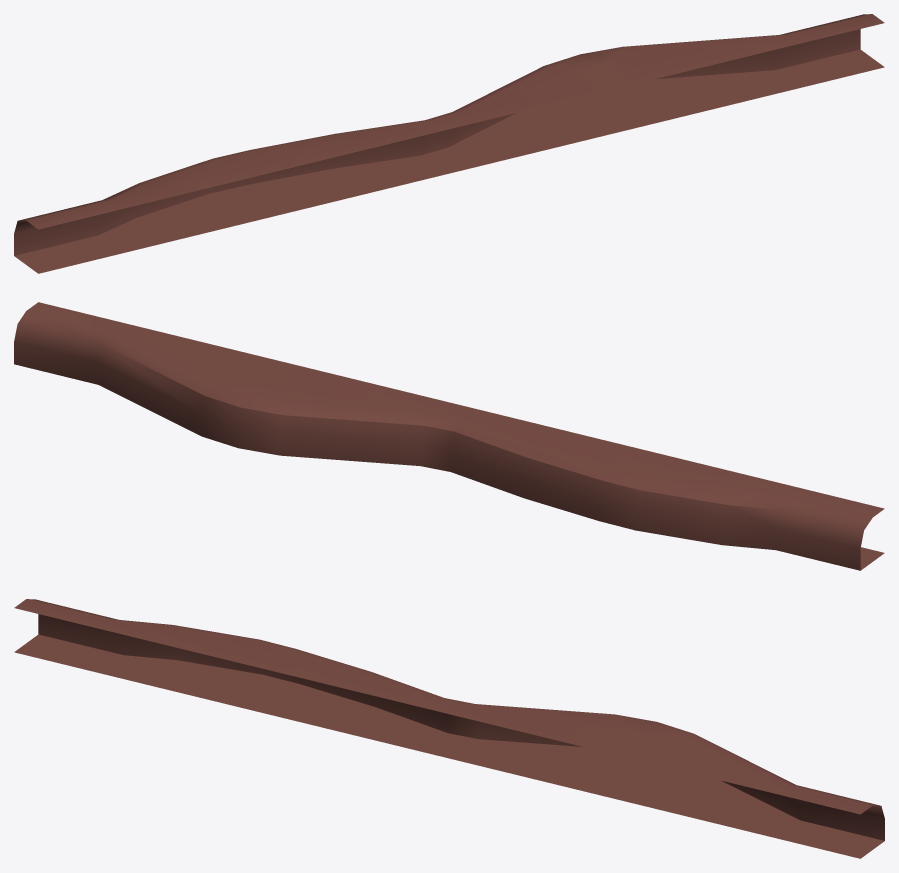
The model's file is SM_drop_5.fbx.
3 renders of one model, top to bottom at view 1: azimuth 30°, elevation 25°; view 2: azimuth 150°, elevation 25°; view 3: azimuth 330°, elevation 25°, orthographic.
Visible parts, largest first — view 1: SM_drop_5; view 2: SM_drop_5; view 3: SM_drop_5.
Boxes of the visible parts, bbox=[...] form: SM_drop_5: bbox=[14, 14, 884, 273]; SM_drop_5: bbox=[14, 302, 884, 570]; SM_drop_5: bbox=[14, 599, 884, 858].
Bounding box in the file's own units: 500 × 25 × 55.61.
Materials: 1 (1 with a texture image).
